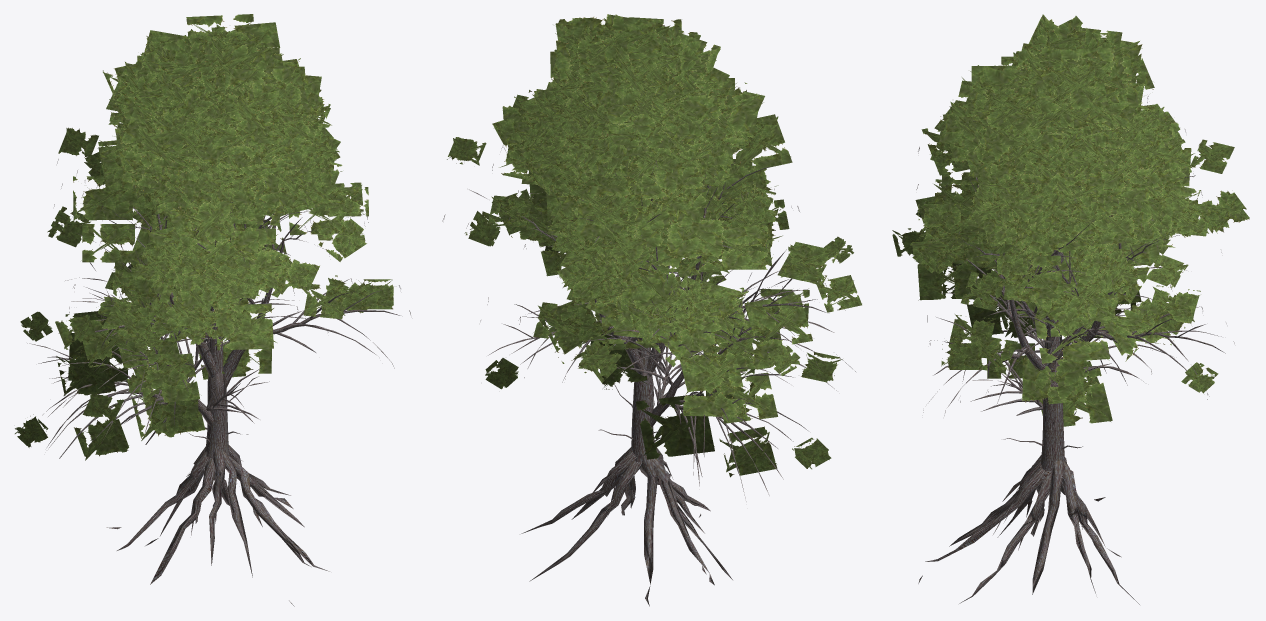
Rendered from eu43-5-mass.glb.
3 views of the same model, side by side, from view 1: azimuth 30°, elevation 25°; view 2: azimuth 150°, elevation 25°; view 3: azimuth 270°, elevation 25° (orthographic). The views are drawn at different scales.
Bounding box in the file's own units: 422 × 613 × 375.
Materials: 2 (2 with a texture image).
